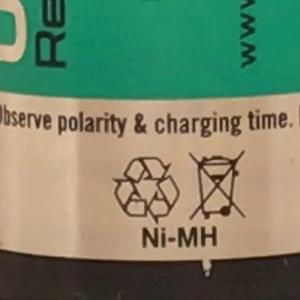NI-MH: (132, 216, 227, 258)
